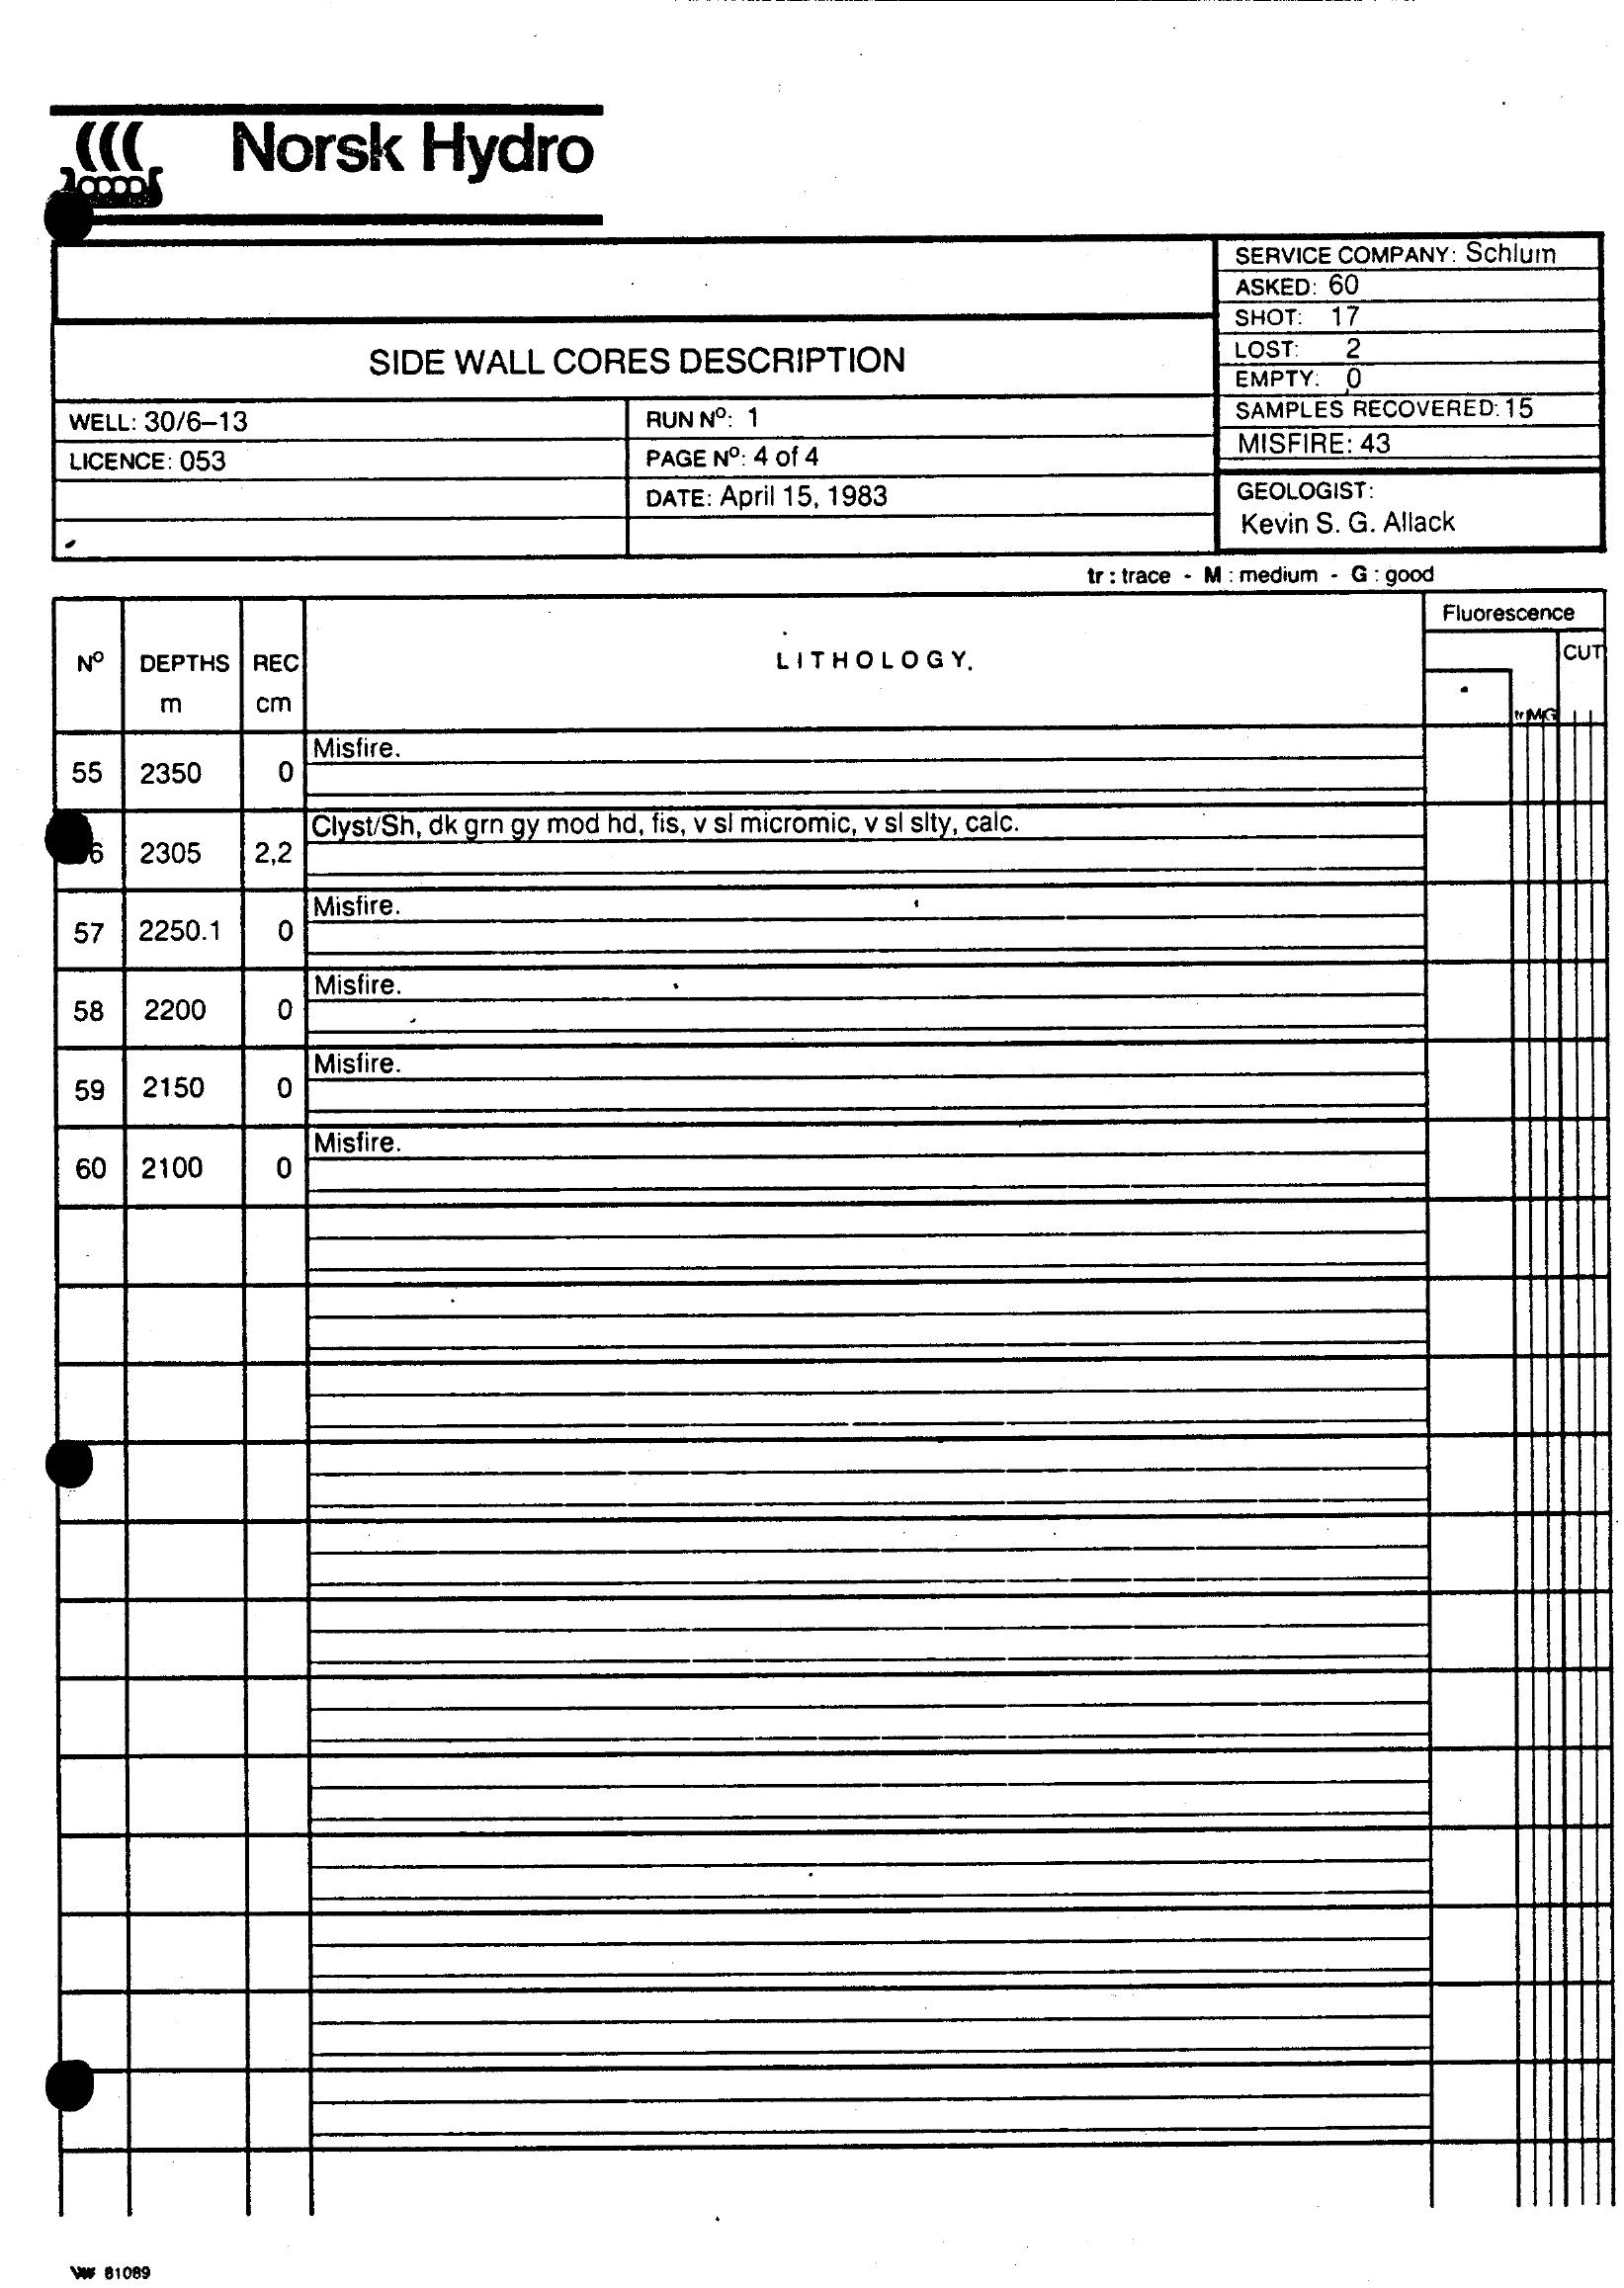table: (35, 585, 1624, 1202)
undefined: (33, 93, 638, 223)
